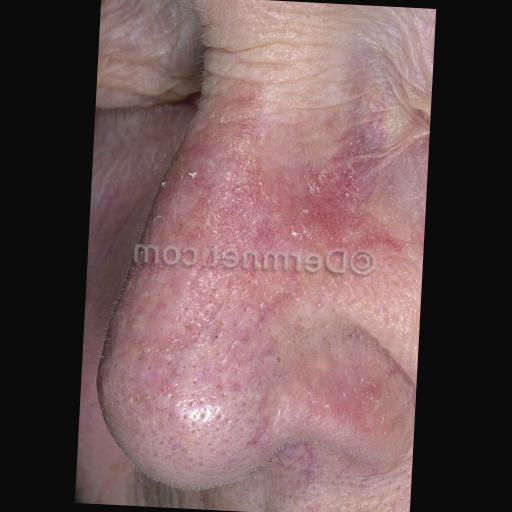Skin_Lesion: (173, 364, 250, 470), (155, 143, 229, 246), (314, 156, 372, 253), (251, 264, 295, 330)
